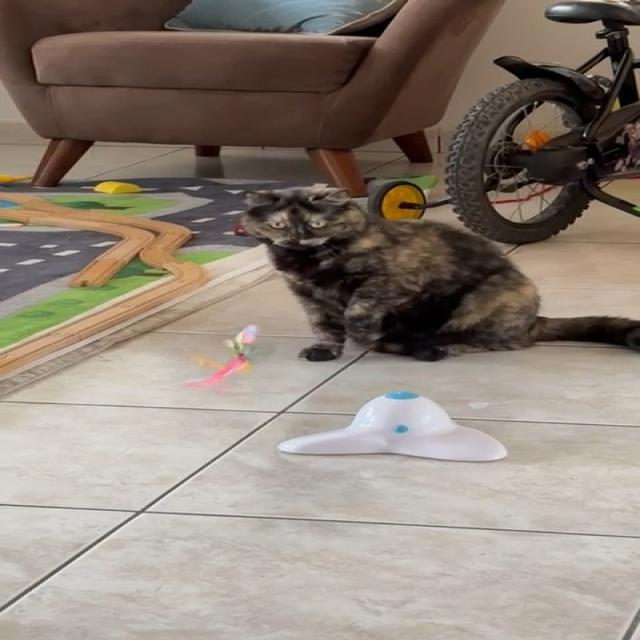authorized: (238, 183, 638, 362)
